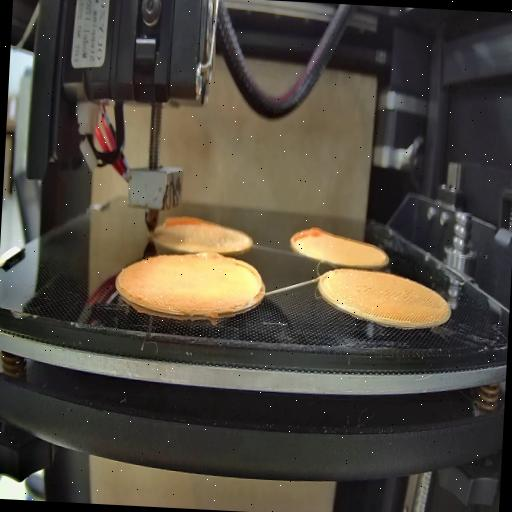over_extrusion: (230, 259, 265, 300), (286, 223, 324, 259), (164, 212, 206, 232), (189, 249, 222, 263)
